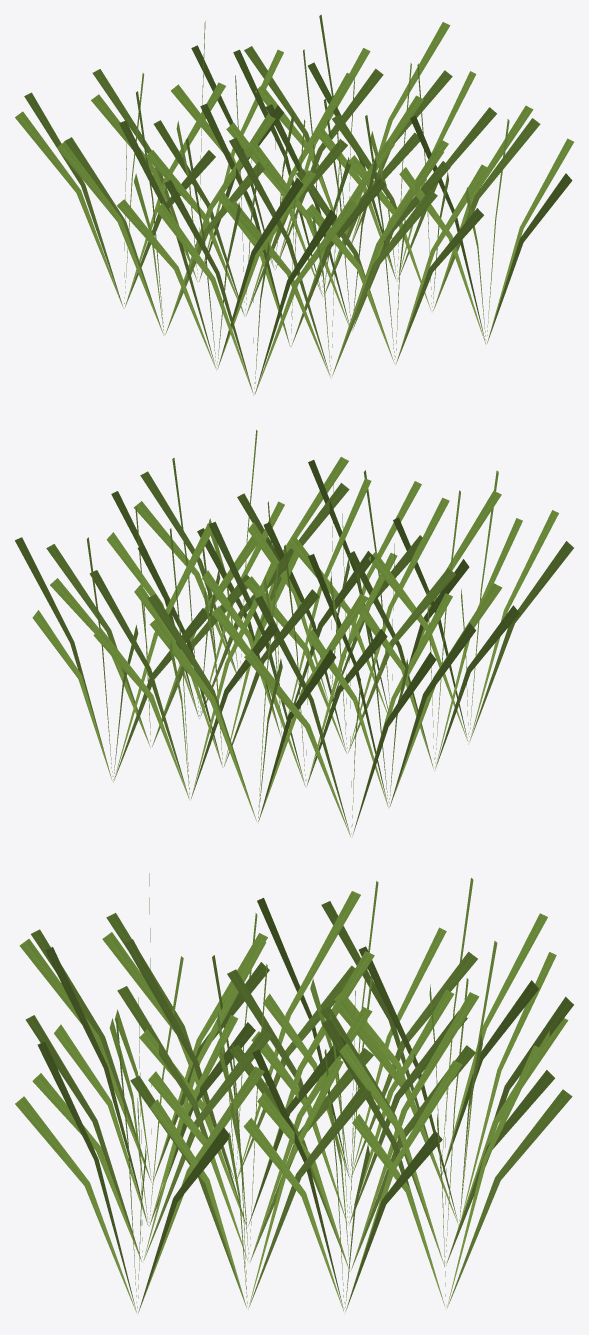
Rendered from rice_patch_1m.glb.
3 views of the same model, one above another, from view 1: azimuth 30°, elevation 25°; view 2: azimuth 150°, elevation 25°; view 3: azimuth 270°, elevation 25° (orthographic). The views are drawn at different scales.
Parts seen in each view (by area): view 1: rice_patch_1m; view 2: rice_patch_1m; view 3: rice_patch_1m.
Part boxes in pixels (<box>): rice_patch_1m: <box>15,14,573,395</box>; rice_patch_1m: <box>15,430,573,836</box>; rice_patch_1m: <box>15,873,573,1313</box>.
Size of the model in its own units: 1.41 by 0.7339 by 1.36.
1 material, 1 textured.
